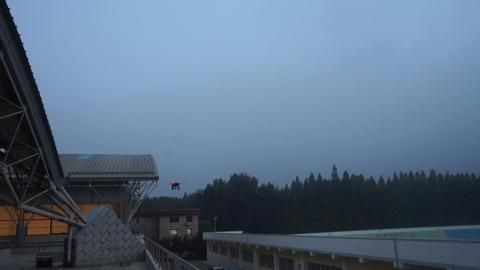UAV: (168, 182, 184, 191)
